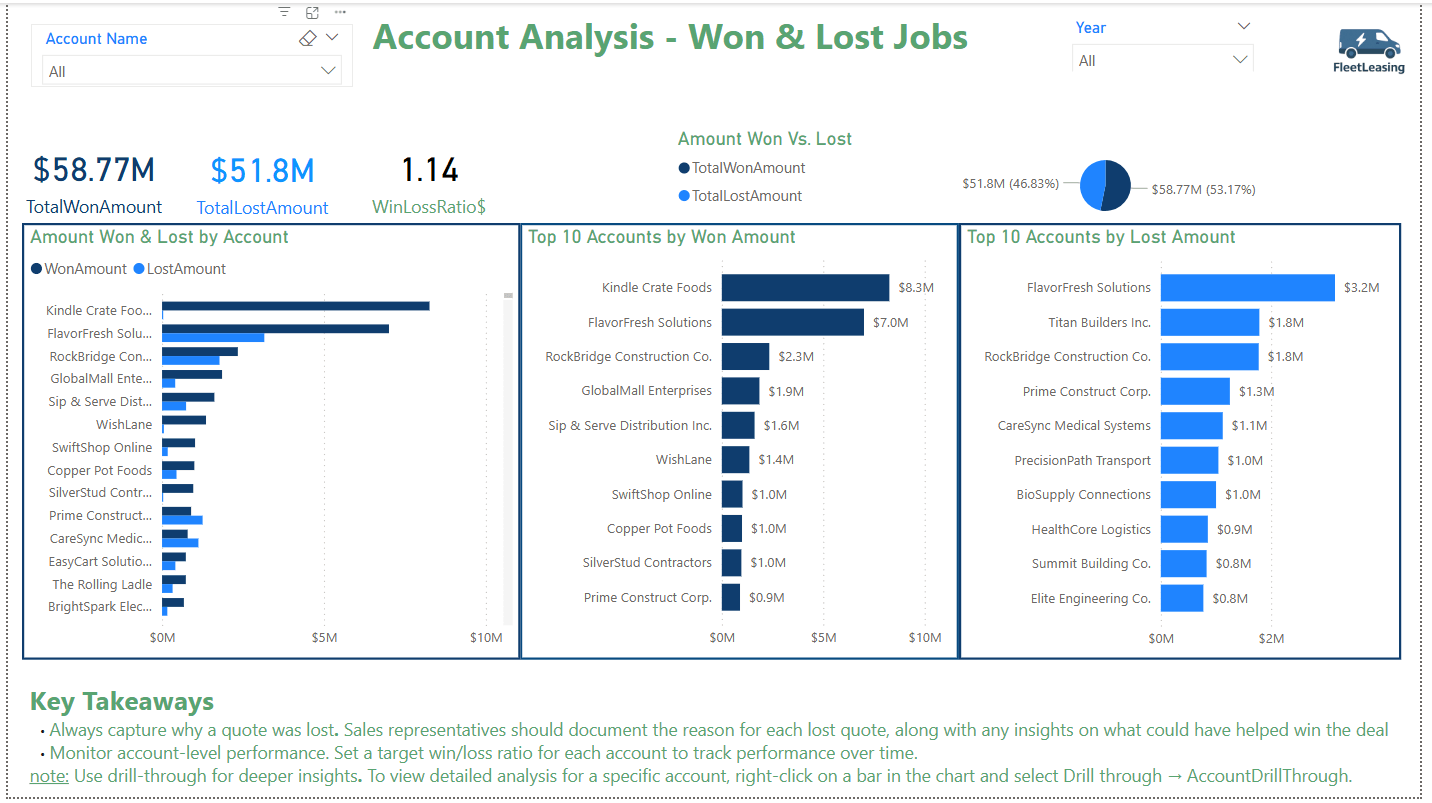

Layout of this report page (visuals, bound fields, positions):
{"tool":"powerbi","page":{"name":" Accounts","canvas":[1280,720],"ordinal":0},"visuals":[{"type":"barChart","title":"Top 10 Accounts by Won Amount Chart","fields":{"Category":["WonLostPipeline.Account Name"],"Y":["_Measure.WonAmountByAccount"]},"box":[462.5,276.2,398.8,320],"z":0},{"type":"slicer","fields":{"Values":["DimDate.Date.Variation.Date Hierarchy.Year"]},"box":[954.9,9.1,185,52.6],"z":1000},{"type":"card","fields":{"Values":["_Measures.WinLossRatio_WithIcon"]},"box":[314.9,162,163.1,66.2],"z":2000},{"type":"clusteredBarChart","title":" Amount Won & Lost by Account Chart","fields":{"Category":["WonLostPipeline.Account Name"],"Y":["_Measures.TotalWonAmount","_Measures.TotalLostAmount"]},"box":[11.4,277.2,451.8,318.3],"z":3000},{"type":"pieChart","title":"Amount Won Vs. Lost","fields":{"Y":["_Measure.TotalWonAmount","_Measure.TotalLostAmount"]},"box":[617.2,156.3,646.8,86.7],"z":4000},{"type":"card","fields":{"Values":["_Measure.TotalLostAmount"]},"box":[160.9,163.1,168.8,65],"z":5000},{"type":"card","fields":{"Values":["_Measure.TotalWonAmount"]},"box":[14.8,162,155.2,66.2],"z":6000},{"type":"slicer","fields":{"Values":["WonLostPipeline.Account Name"]},"box":[20.9,19,292,57.1],"z":7000},{"type":"textbox","box":[337.2,1.1,563.8,53.7],"z":8000},{"type":"barChart","title":"Top 10 Accounts by Lost Amount Chart","fields":{"Category":["WonLostPipeline.Account Name"],"Y":["_Measure.TotalLostAmount"]},"box":[862.4,276.6,401.7,319.2],"z":9000},{"type":"textbox","box":[14.5,606.6,1256.8,112.4],"z":10000},{"type":"image","box":[1188.6,1,91.4,93.4],"z":11000},{"type":"shape","box":[0,197.5,1280.5,6.1],"z":12000},{"type":"shape","box":[12.5,141.5,1258.3,12.5],"z":13000},{"type":"pageNavigator","box":[48.1,94.3,1220,49],"z":14000},{"type":"bookmarkNavigator","box":[12.2,253.3,309.6,23.3],"z":17000},{"type":"bookmarkNavigator","box":[465,253.3,309.6,23.3],"z":18000},{"type":"bookmarkNavigator","box":[863.9,253.3,308.4,23.3],"z":19000}]}

Visuals, with their boxes in screenshot pixels (x1, y1, x2, y2), scaled from the page's 1280x720 canvas onto the 1432x803 screenshot:
"Top 10 Accounts by Won Amount Chart" barChart: {"x1": 517, "y1": 308, "x2": 964, "y2": 665}
slicer - DimDate.Date.Variation.Date Hierarchy.Year: {"x1": 1068, "y1": 10, "x2": 1275, "y2": 69}
card - _Measures.WinLossRatio_WithIcon: {"x1": 352, "y1": 181, "x2": 535, "y2": 255}
" Amount Won & Lost by Account Chart" clusteredBarChart: {"x1": 13, "y1": 309, "x2": 518, "y2": 664}
"Amount Won Vs. Lost" pieChart: {"x1": 690, "y1": 174, "x2": 1414, "y2": 271}
card - _Measure.TotalLostAmount: {"x1": 180, "y1": 182, "x2": 369, "y2": 254}
card - _Measure.TotalWonAmount: {"x1": 17, "y1": 181, "x2": 190, "y2": 255}
slicer - WonLostPipeline.Account Name: {"x1": 23, "y1": 21, "x2": 350, "y2": 85}
textbox: {"x1": 377, "y1": 1, "x2": 1008, "y2": 61}
"Top 10 Accounts by Lost Amount Chart" barChart: {"x1": 965, "y1": 308, "x2": 1414, "y2": 664}
textbox: {"x1": 16, "y1": 677, "x2": 1422, "y2": 802}
image: {"x1": 1330, "y1": 1, "x2": 1431, "y2": 105}
shape: {"x1": 0, "y1": 220, "x2": 1431, "y2": 227}
shape: {"x1": 14, "y1": 158, "x2": 1422, "y2": 172}
pageNavigator: {"x1": 54, "y1": 105, "x2": 1419, "y2": 160}
bookmarkNavigator: {"x1": 14, "y1": 282, "x2": 360, "y2": 308}
bookmarkNavigator: {"x1": 520, "y1": 282, "x2": 867, "y2": 308}
bookmarkNavigator: {"x1": 966, "y1": 282, "x2": 1312, "y2": 308}
